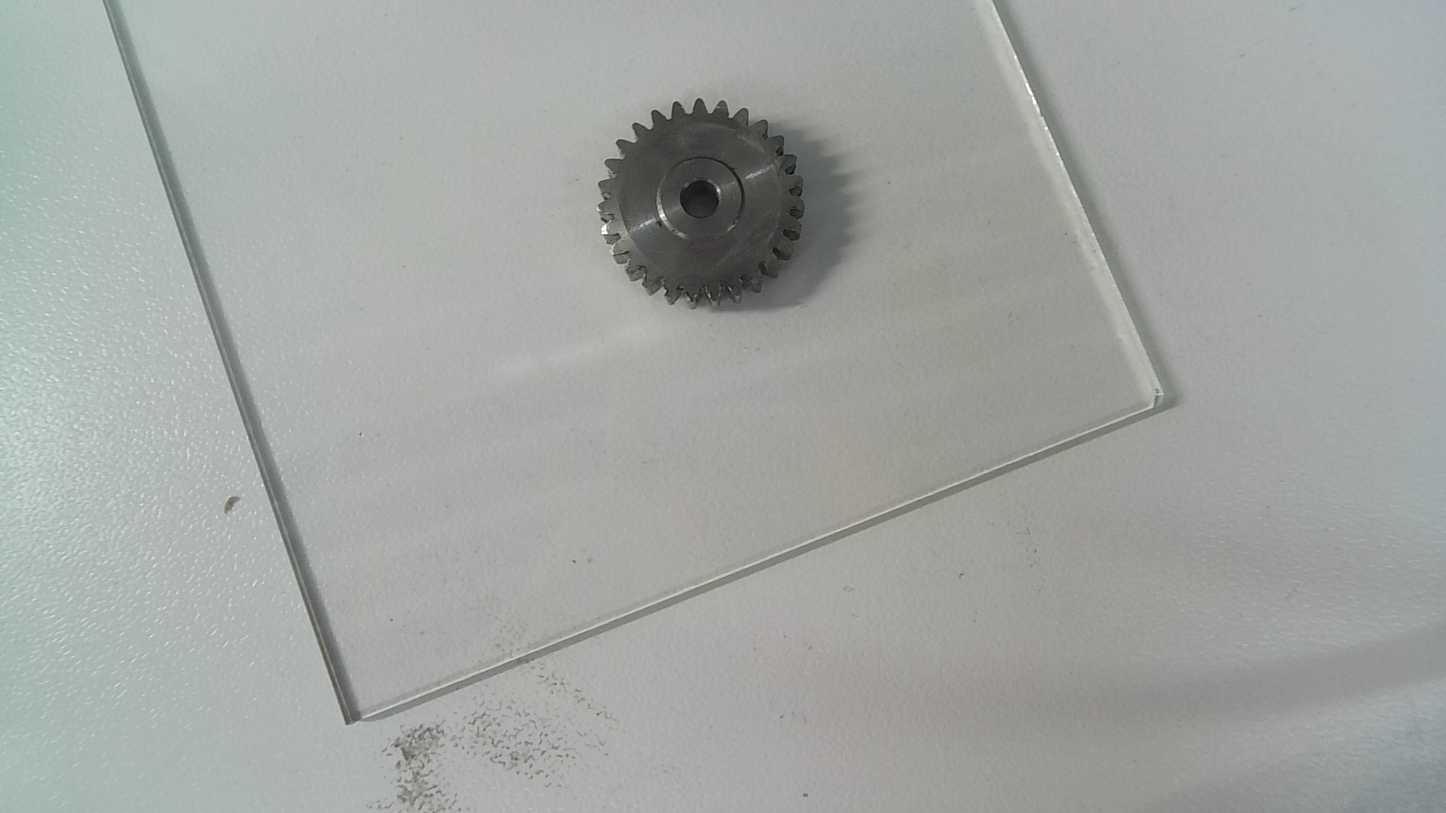gear: (591, 94, 808, 316)
